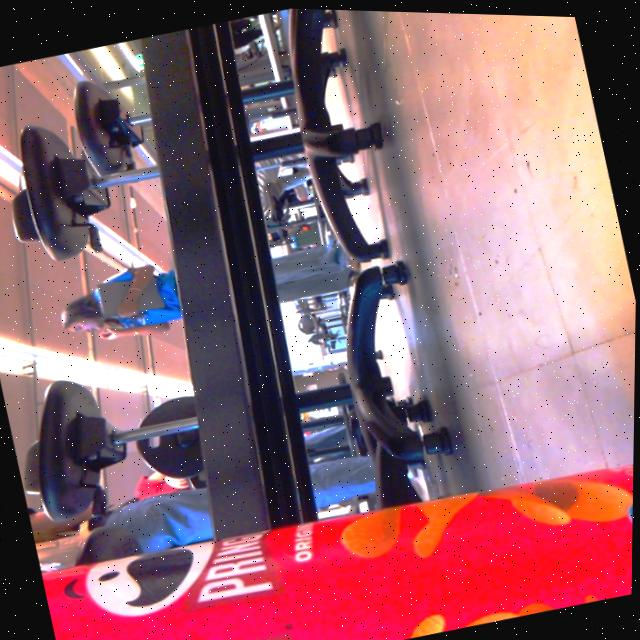redpringles: (34, 391, 635, 640)
